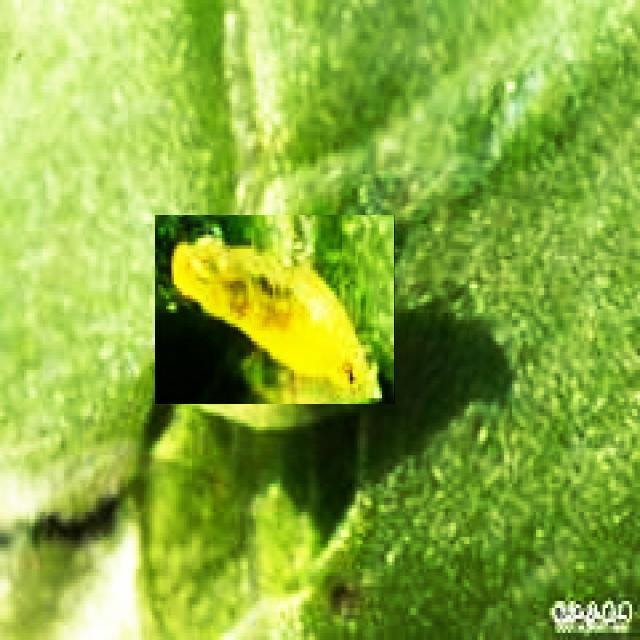whorl-maggot: (156, 215, 396, 404)
